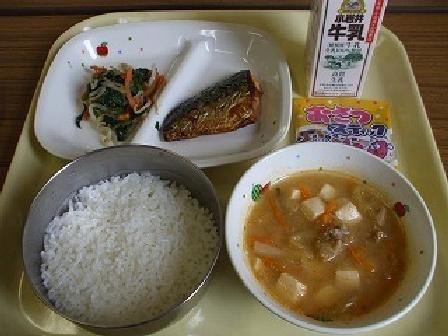Fish: (155, 71, 266, 143)
Milk: (300, 0, 389, 99)
Rice: (28, 162, 228, 327)
Salad: (54, 51, 169, 140)
vegetable soup: (240, 155, 439, 326)
